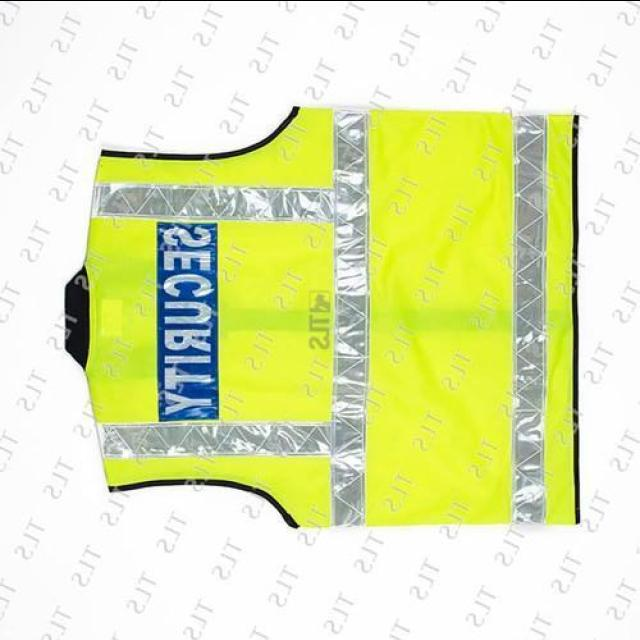jacket: (59, 87, 586, 534)
